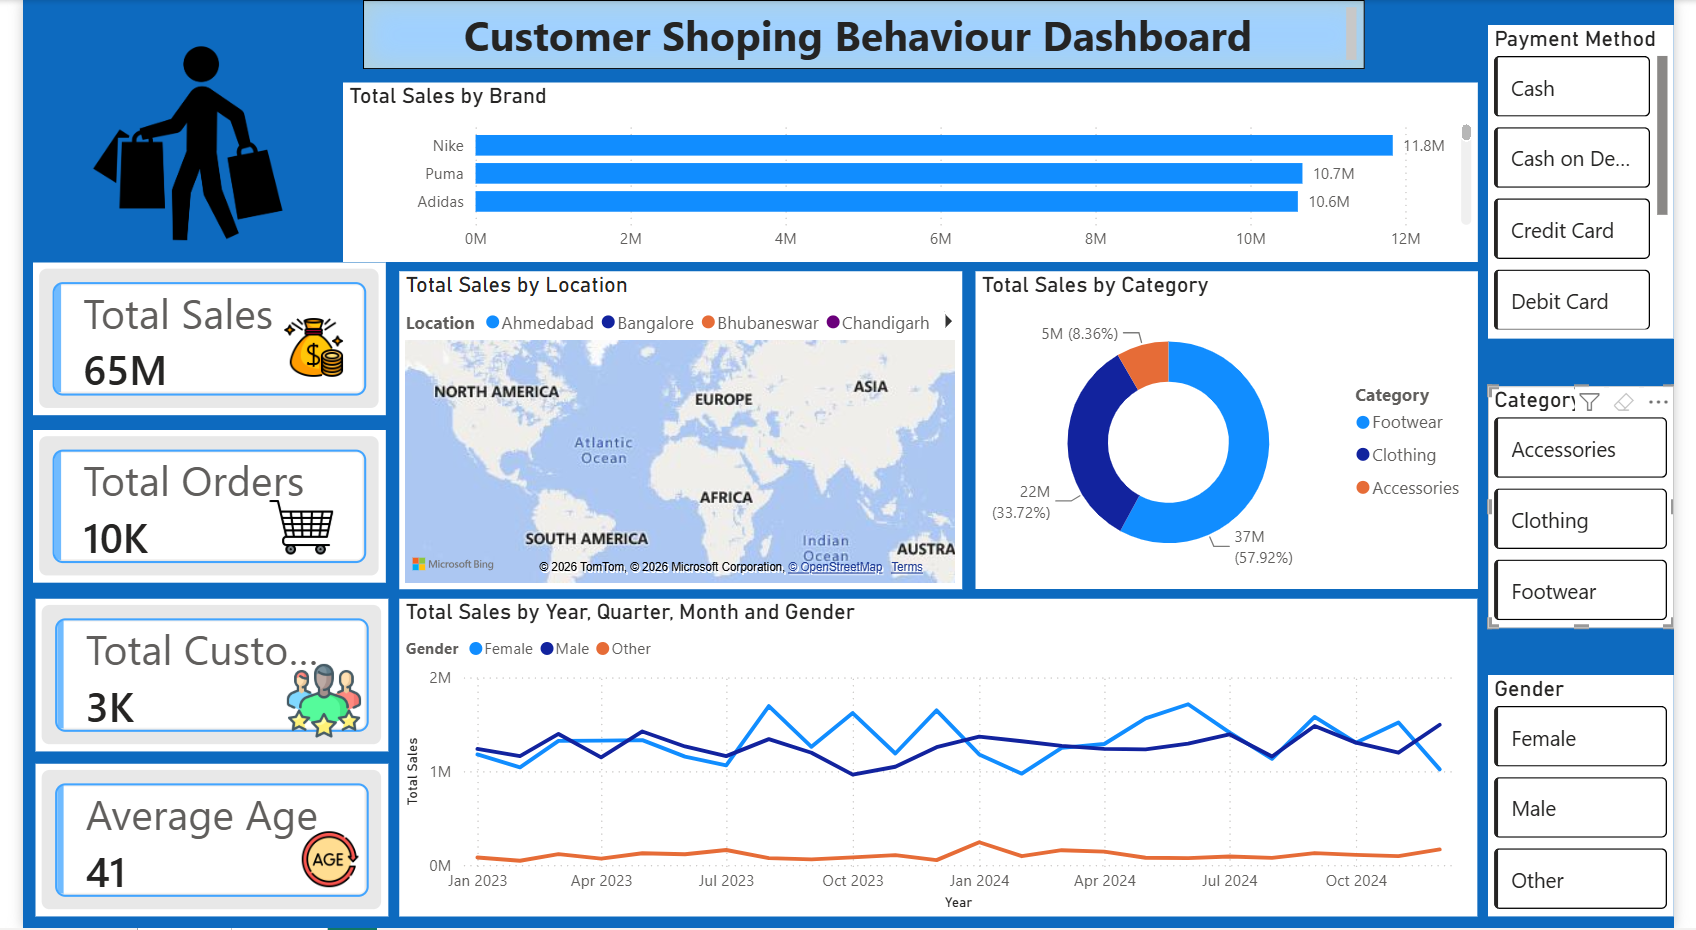

The page's visual inventory and layout, read from the dashboard file:
{"tool":"powerbi","page":{"name":"Page 1","canvas":[1280,720],"ordinal":0},"visuals":[{"type":"textbox","box":[264,0,776.7,53.5],"z":0},{"type":"cardVisual","fields":{"Data":["customer_shopping_behavior-clean.Total Sales"]},"box":[8.1,203.5,273.3,118.6],"z":1000},{"type":"cardVisual","fields":{"Data":["customer_shopping_behavior-clean.Total Orders"]},"box":[8.1,333.7,273.3,118.6],"z":2000},{"type":"cardVisual","fields":{"Data":["customer_shopping_behavior-clean.total Customer"]},"box":[9.3,464,273.3,118.6],"z":3000},{"type":"cardVisual","fields":{"Data":["customer_shopping_behavior-clean.Averae Age"]},"box":[9.3,591.9,273.3,118.6],"z":4000},{"type":"advancedSlicerVisual","fields":{"Values":["customer_shopping_behavior-clean.Category"]},"box":[1136,300,144.2,187.2],"z":5000},{"type":"advancedSlicerVisual","fields":{"Values":["customer_shopping_behavior-clean.Gender"]},"box":[1136,523.3,144.2,187.2],"z":6000},{"type":"advancedSlicerVisual","fields":{"Values":["customer_shopping_behavior-clean.Payment Method"]},"box":[1136,19.8,144.2,243],"z":7000},{"type":"map","fields":{"Size":["customer_shopping_behavior-clean.Total Sales"],"Series":["customer_shopping_behavior-clean.Location"]},"box":[291.9,210.5,436,246.5],"z":8000},{"type":"lineChart","fields":{"Y":["customer_shopping_behavior-clean.Total Sales"],"Series":["customer_shopping_behavior-clean.Gender"],"Category":["customer_shopping_behavior-clean.Purchase Date.Variation.Date Hierarchy.Year","customer_shopping_behavior-clean.Purchase Date.Variation.Date Hierarchy.Quarter","customer_shopping_behavior-clean.Purchase Date.Variation.Date Hierarchy.Month"]},"box":[291.9,464,836,246.5],"z":9000},{"type":"donutChart","fields":{"Y":["customer_shopping_behavior-clean.Total Sales"],"Category":["customer_shopping_behavior-clean.Category"]},"box":[738.4,210.5,389.5,246.5],"z":10000},{"type":"clusteredBarChart","fields":{"Category":["customer_shopping_behavior-clean.Brand"],"Y":["customer_shopping_behavior-clean.Total Sales"]},"box":[247.7,64,880.2,139.5],"z":11000},{"type":"image","box":[202.3,239.5,45.3,60.5],"z":12000},{"type":"image","box":[150,382.6,131.4,52.3],"z":13000},{"type":"image","box":[202.3,498.8,61.6,88.4],"z":14000},{"type":"image","box":[216.3,640.7,44.2,51.2],"z":15000},{"type":"image","box":[8.1,36,239.5,150],"z":16000}]}

Visuals, with their boxes in screenshot pixels (x1, y1, x2, y2), scaled from the page's 1280x720 canvas onto the 1696x930 screenshot:
textbox: 350,0,1379,69
cardVisual - customer_shopping_behavior-clean.Total Sales: 11,263,373,416
cardVisual - customer_shopping_behavior-clean.Total Orders: 11,431,373,584
cardVisual - customer_shopping_behavior-clean.total Customer: 12,599,374,753
cardVisual - customer_shopping_behavior-clean.Averae Age: 12,765,374,918
advancedSlicerVisual - customer_shopping_behavior-clean.Category: 1505,388,1695,629
advancedSlicerVisual - customer_shopping_behavior-clean.Gender: 1505,676,1695,918
advancedSlicerVisual - customer_shopping_behavior-clean.Payment Method: 1505,26,1695,339
map - customer_shopping_behavior-clean.Total Sales x customer_shopping_behavior-clean.Location: 387,272,964,590
lineChart - customer_shopping_behavior-clean.Total Sales x customer_shopping_behavior-clean.Gender: 387,599,1494,918
donutChart - customer_shopping_behavior-clean.Total Sales x customer_shopping_behavior-clean.Category: 978,272,1494,590
clusteredBarChart - customer_shopping_behavior-clean.Brand x customer_shopping_behavior-clean.Total Sales: 328,83,1494,263
image: 268,309,328,388
image: 199,494,373,562
image: 268,644,350,758
image: 287,828,345,894
image: 11,46,328,240
